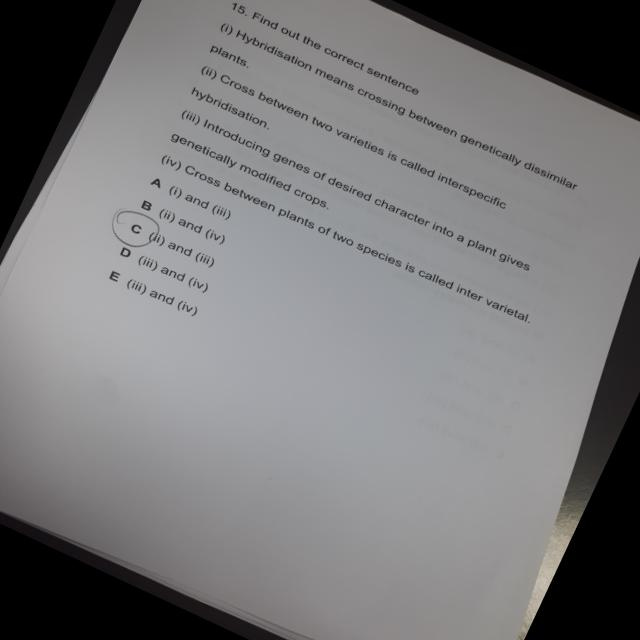C: (103, 202, 170, 260)
